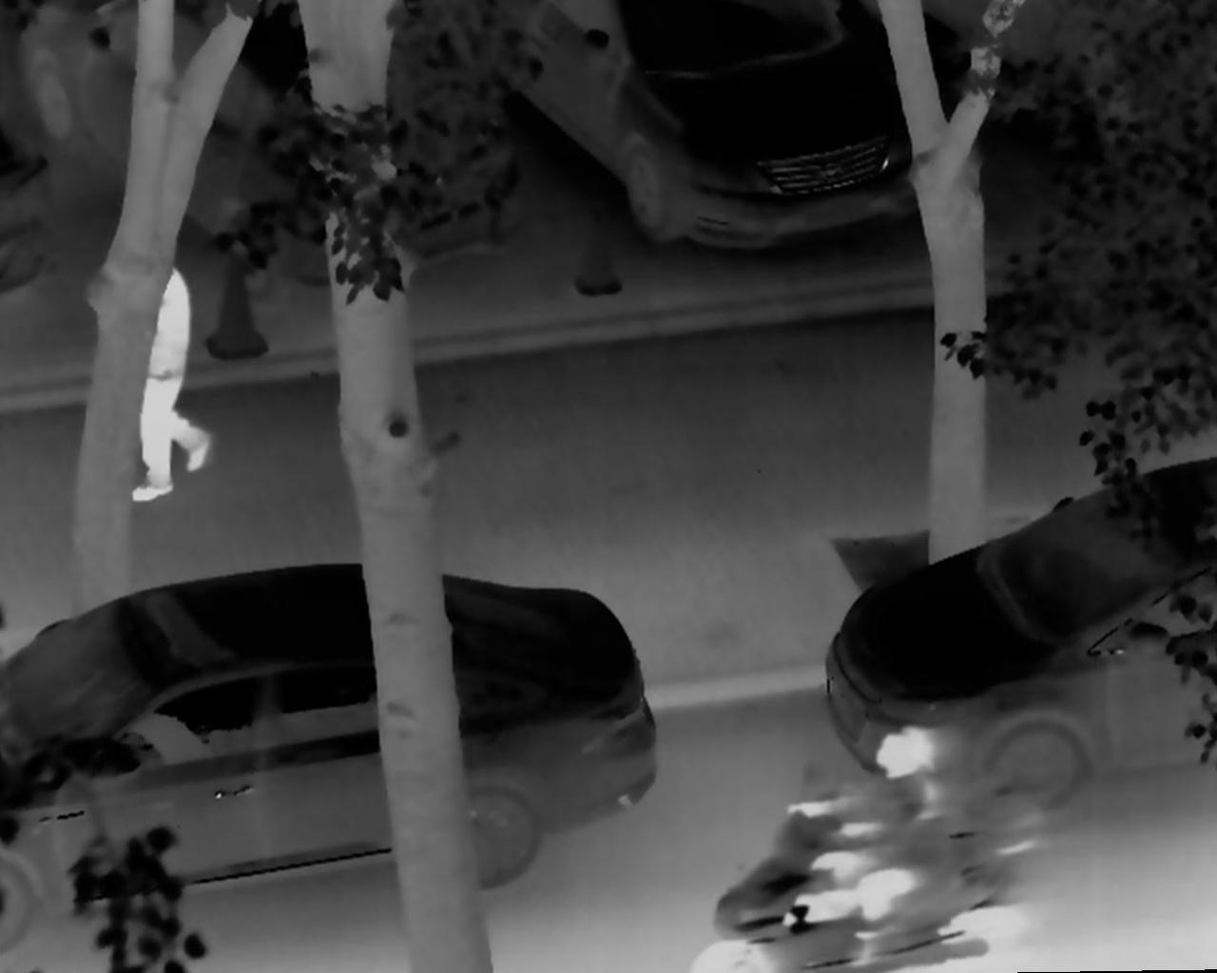person: (787, 721, 945, 973), (133, 252, 214, 506)
